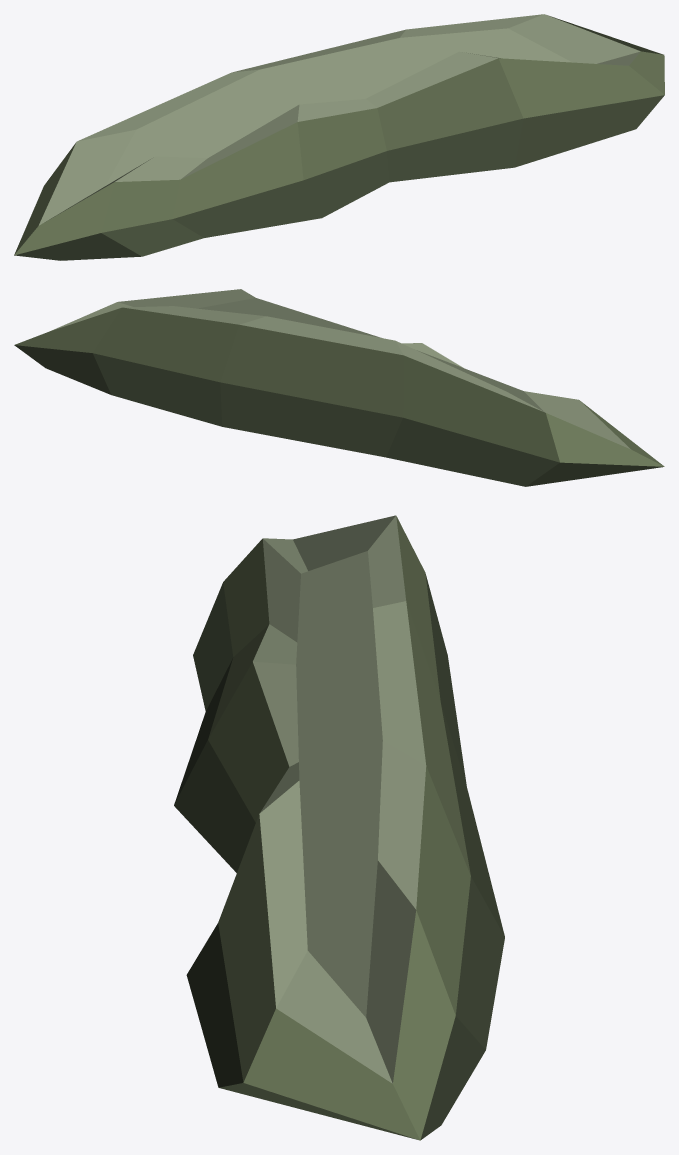
Rendered from garden-terrace.glb.
The picture shows the model from 3 angles, top to bottom: view 1: azimuth 30°, elevation 25°; view 2: azimuth 150°, elevation 25°; view 3: azimuth 270°, elevation 25°; orthographic projection. The views are drawn at different scales.
Parts seen in each view (by area): view 1: garden-terrace; view 2: garden-terrace; view 3: garden-terrace.
Part boxes in pixels (bbox=[...]): garden-terrace: bbox=[14, 14, 664, 260]; garden-terrace: bbox=[14, 289, 664, 486]; garden-terrace: bbox=[174, 515, 504, 1140].
Size of the model in its own units: 28 by 4.2 by 6.55.
